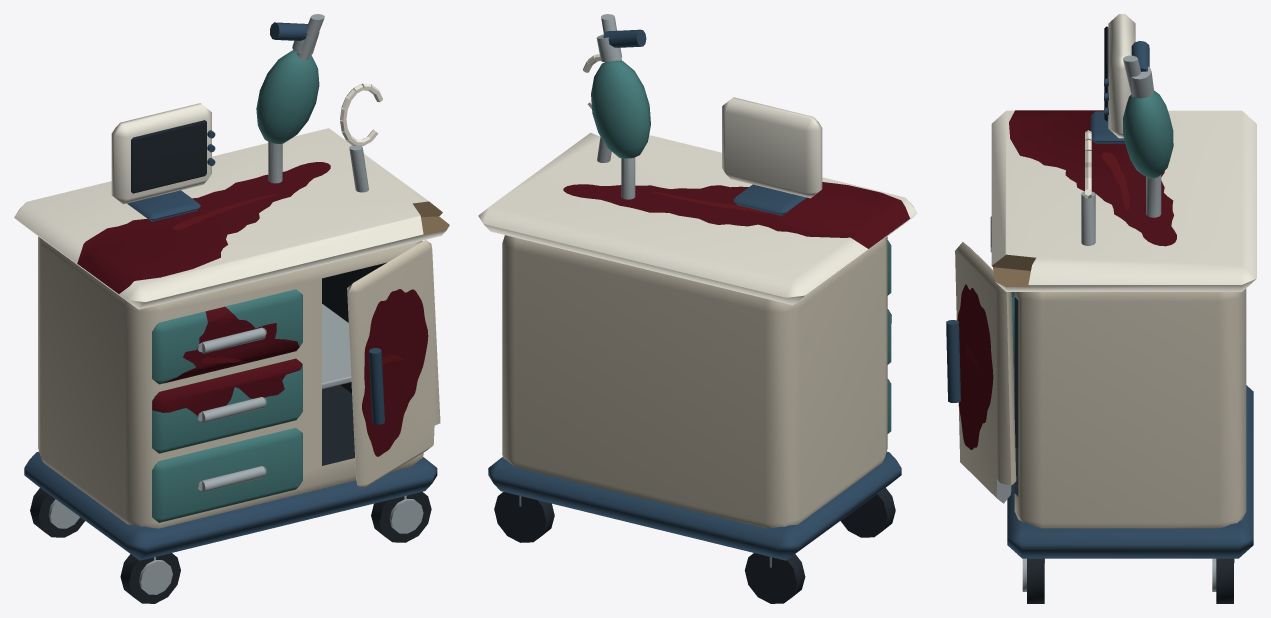
File: airready.glb
3 views of the same model, side by side, from view 1: azimuth 30°, elevation 25°; view 2: azimuth 150°, elevation 25°; view 3: azimuth 270°, elevation 25° (orthographic). The views are drawn at different scales.
Visible parts, largest first — view 1: Outbreak_AirReady_standard_Static; view 2: Outbreak_AirReady_standard_Static; view 3: Outbreak_AirReady_standard_Static.
Part boxes in pixels (x1=…): Outbreak_AirReady_standard_Static: x1=14, y1=14, x2=449, y2=603; Outbreak_AirReady_standard_Static: x1=478, y1=14, x2=917, y2=603; Outbreak_AirReady_standard_Static: x1=946, y1=14, x2=1256, y2=603.
Bounding box in the file's own units: 0.94 × 1.37 × 0.7379.
